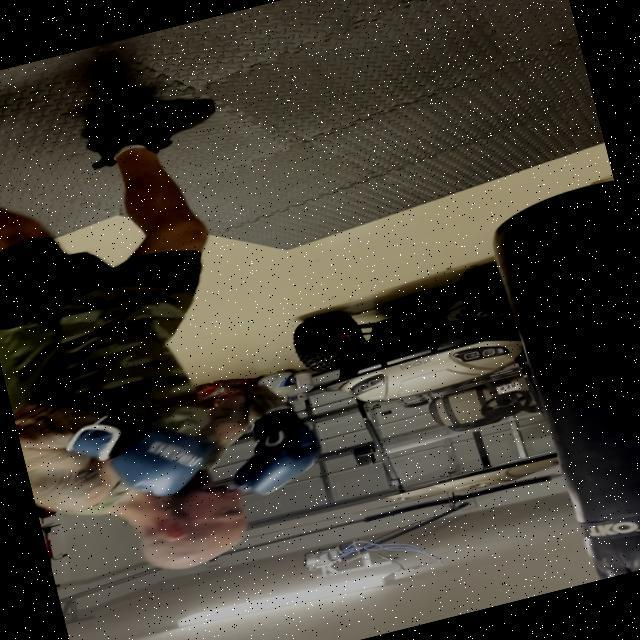bag: (480, 173, 640, 586)
no punch: (11, 332, 352, 602)
